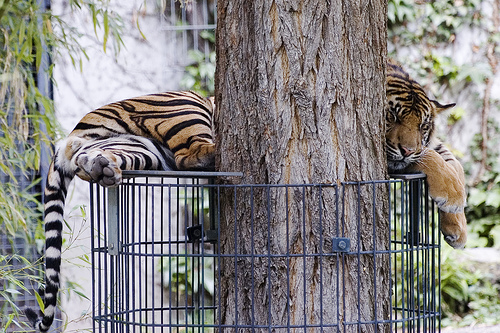Tigre: (389, 73, 473, 215)
